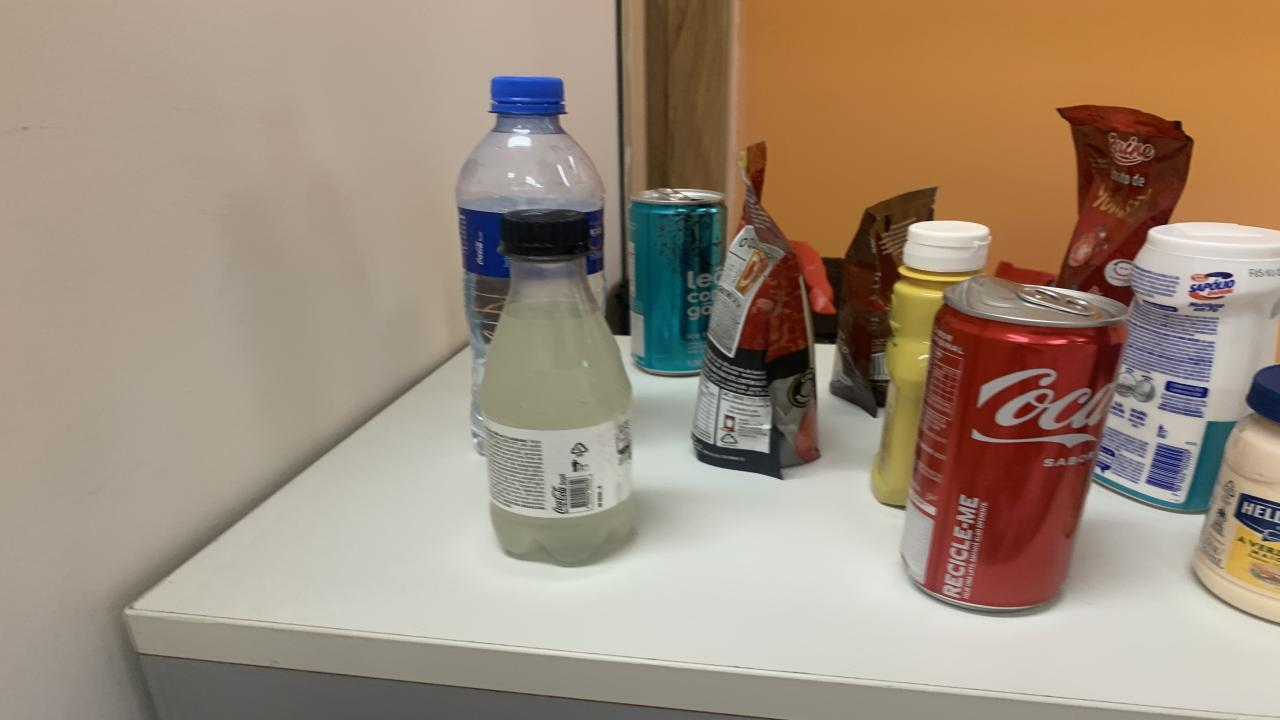Cleaner-Cleanup_Items: (1095, 223, 1280, 512)
Coffee-Pantry_Items: (830, 188, 938, 416)
Coke-Drinks: (900, 276, 1128, 611)
Mayonnaise-Pantry_Items: (1192, 366, 1280, 622)
Mustard-Pantry_Items: (870, 219, 990, 506)
Soda-Drinks: (480, 210, 635, 564)
Tea-Drinks: (628, 188, 725, 375)
Tomato_Sauce-Pantry_Items: (692, 144, 820, 478), (1055, 105, 1192, 304)
Water_Bottle-Drinks: (455, 77, 605, 454)
